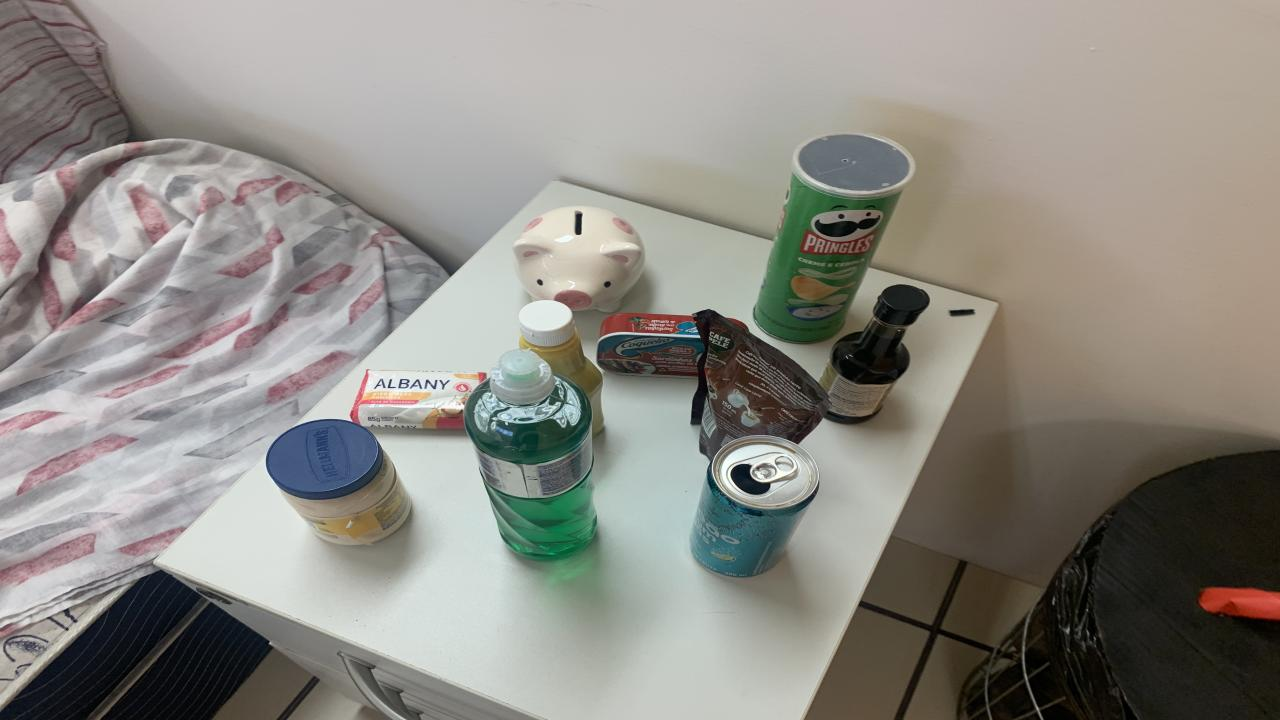Coffee-Pantry_Items: (692, 309, 830, 458)
Detergent-Cleanup_Items: (465, 349, 598, 557)
English_Sauce-Pantry_Items: (820, 285, 930, 424)
Mayonnaise-Pantry_Items: (265, 420, 410, 546)
Mustard-Pantry_Items: (520, 300, 602, 433)
Pig_Safe-Miscellaneous: (512, 206, 645, 313)
Pringles-Snacks: (752, 133, 915, 343)
Soap-Cleanup_Items: (350, 369, 488, 429)
Tea-Drinks: (690, 435, 818, 578)
Tuna_Can-Pantry_Items: (598, 313, 702, 377)
